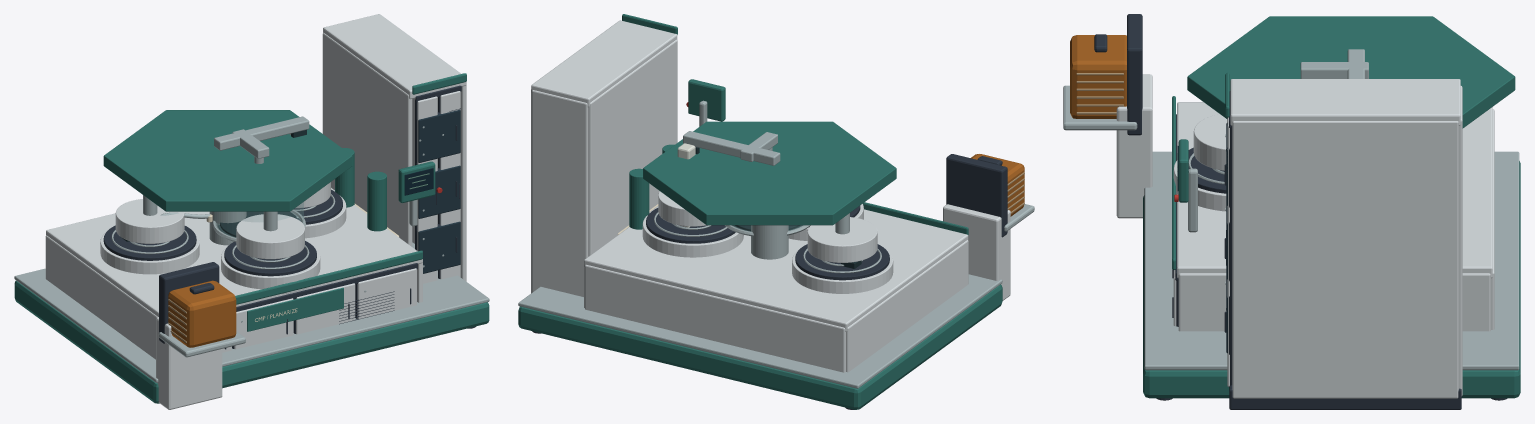
The model's file is equipment-cmp.glb.
3 views of the same model, side by side, from view 1: azimuth 30°, elevation 25°; view 2: azimuth 150°, elevation 25°; view 3: azimuth 270°, elevation 25° (orthographic). The views are drawn at different scales.
Visible parts, largest first — view 1: Raised carrier carousel, Side service skin.002, Filtered ceiling, Segmented service plinth, Raised deck edge, Filtered ceiling.001, Side service skin, Independent load port base, Amber wafer transport pod, Polish carrier cover.002, Polish carrier cover, Removable service door.003 (+28 smaller); view 2: Raised carrier carousel, Filtered ceiling, Rear utility enclosure, Side service skin.002, Rear utility enclosure.001, Segmented service plinth, Raised deck edge, Filtered ceiling.001, Side service skin, Pod docking bulkhead, Independent load port base, Polish carrier cover (+12 smaller); view 3: Side service skin.003, Raised carrier carousel, Raised deck edge, Filtered ceiling.001, Filtered ceiling, Segmented service plinth, Side service skin.001, Amber wafer transport pod, Independent load port base, Equipment plinth.001, Pod docking bulkhead, Polish carrier cover.002 (+12 smaller).
Boxes of the visible parts, x1=… form: Raised carrier carousel: x1=103, y1=110, x2=352, y2=211; Side service skin.002: x1=322, y1=32, x2=412, y2=246; Filtered ceiling: x1=46, y1=188, x2=422, y2=316; Segmented service plinth: x1=14, y1=280, x2=489, y2=403; Raised deck edge: x1=14, y1=242, x2=489, y2=382; Filtered ceiling.001: x1=323, y1=14, x2=466, y2=99; Side service skin: x1=45, y1=235, x2=157, y2=359; Independent load port base: x1=156, y1=317, x2=222, y2=409; Amber wafer transport pod: x1=168, y1=280, x2=236, y2=347; Polish carrier cover.002: x1=236, y1=214, x2=304, y2=259; Polish carrier cover: x1=115, y1=199, x2=184, y2=243; Removable service door.003: x1=357, y1=268, x2=416, y2=318; Raised carrier carousel: x1=643, y1=121, x2=896, y2=225; Filtered ceiling: x1=584, y1=206, x2=968, y2=331; Rear utility enclosure: x1=585, y1=264, x2=845, y2=372; Side service skin.002: x1=588, y1=39, x2=677, y2=256; Rear utility enclosure.001: x1=532, y1=90, x2=588, y2=296; Segmented service plinth: x1=518, y1=284, x2=1002, y2=409; Raised deck edge: x1=518, y1=274, x2=1002, y2=388; Filtered ceiling.001: x1=531, y1=20, x2=677, y2=107; Side service skin: x1=846, y1=240, x2=968, y2=372; Pod docking bulkhead: x1=946, y1=154, x2=1007, y2=237; Independent load port base: x1=943, y1=204, x2=1010, y2=300; Polish carrier cover: x1=807, y1=217, x2=877, y2=262; Side service skin.003: x1=1232, y1=121, x2=1458, y2=398; Raised carrier carousel: x1=1187, y1=16, x2=1515, y2=128; Raised deck edge: x1=1144, y1=151, x2=1519, y2=370; Filtered ceiling.001: x1=1230, y1=79, x2=1460, y2=125; Filtered ceiling: x1=1177, y1=102, x2=1492, y2=278; Segmented service plinth: x1=1143, y1=161, x2=1520, y2=398; Side service skin.001: x1=1178, y1=273, x2=1490, y2=331; Amber wafer transport pod: x1=1070, y1=35, x2=1126, y2=118; Independent load port base: x1=1116, y1=74, x2=1152, y2=218; Equipment plinth.001: x1=1229, y1=385, x2=1461, y2=409; Pod docking bulkhead: x1=1127, y1=14, x2=1142, y2=135; Polish carrier cover.002: x1=1193, y1=114, x2=1227, y2=170.
Size of the model in its own units: 7.3 by 4.69 by 6.36.
